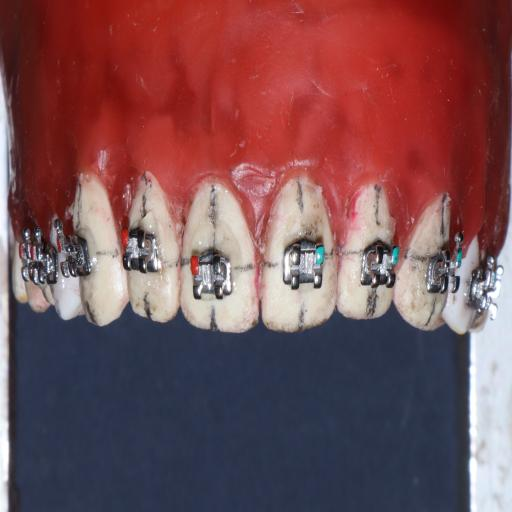incorrect_brace: (186, 246, 239, 306), (278, 233, 329, 293)
